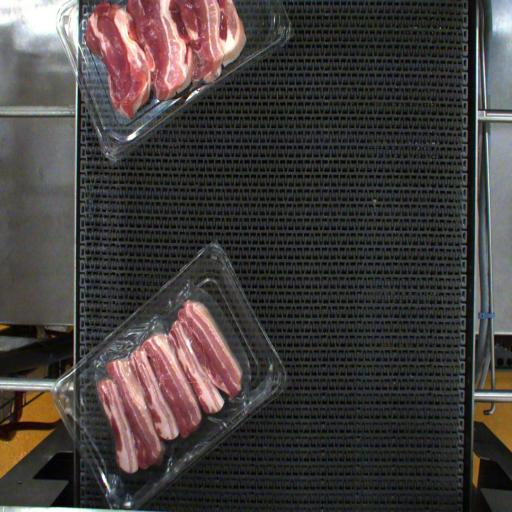unsealed: (78, 282, 251, 476)
